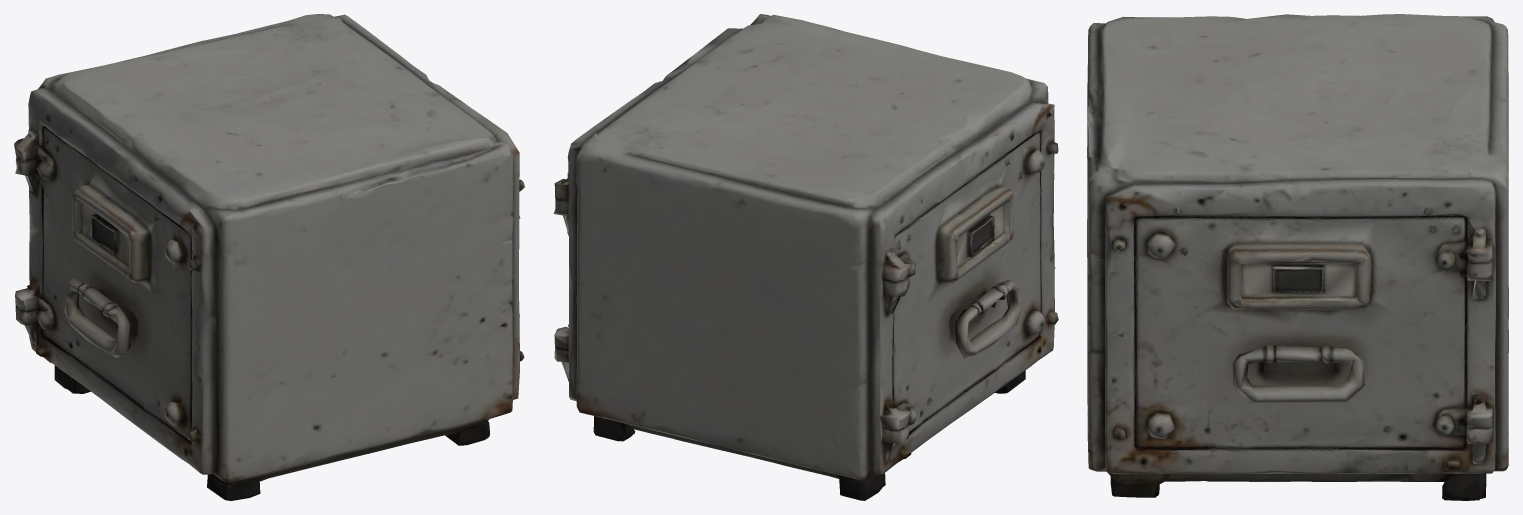
File: drawer.glb
3 renders of one model, left to right at view 1: azimuth 30°, elevation 25°; view 2: azimuth 150°, elevation 25°; view 3: azimuth 270°, elevation 25°, orthographic. The views are drawn at different scales.
Parts seen in each view (by area): view 1: tripo_node_e1ae1baa-247a-4e61-b8ef-fd489571d493; view 2: tripo_node_e1ae1baa-247a-4e61-b8ef-fd489571d493; view 3: tripo_node_e1ae1baa-247a-4e61-b8ef-fd489571d493.
Boxes of the visible parts, <box> form: tripo_node_e1ae1baa-247a-4e61-b8ef-fd489571d493: <box>14,14,524,500</box>; tripo_node_e1ae1baa-247a-4e61-b8ef-fd489571d493: <box>553,14,1058,500</box>; tripo_node_e1ae1baa-247a-4e61-b8ef-fd489571d493: <box>1087,14,1508,500</box>.
Size of the model in its own units: 1 by 0.786 by 0.8826.
Materials: 1 (1 with a texture image).
